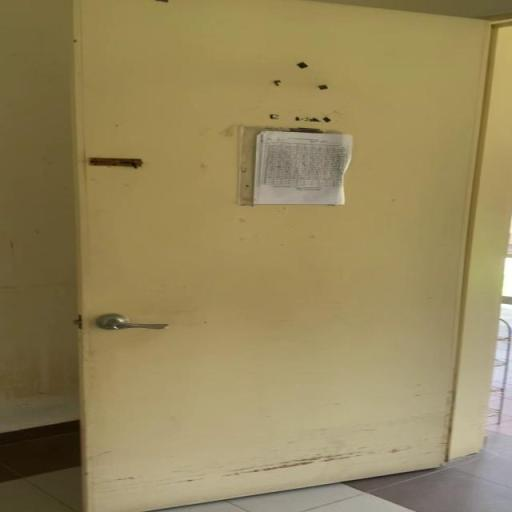door: (72, 0, 502, 511)
